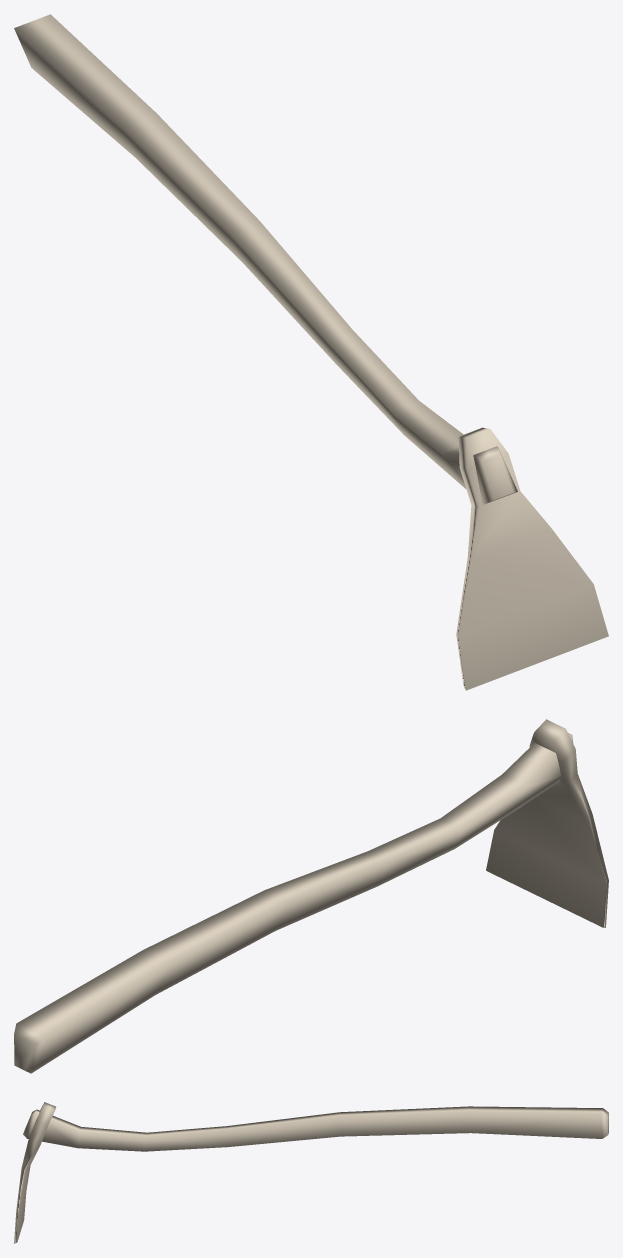
File: hoe-base.glb
3 renders of one model, top to bottom at view 1: azimuth 30°, elevation 25°; view 2: azimuth 150°, elevation 25°; view 3: azimuth 270°, elevation 25°, orthographic. The views are drawn at different scales.
Size of the model in its own units: 0.2554 by 0.4413 by 1.71.
